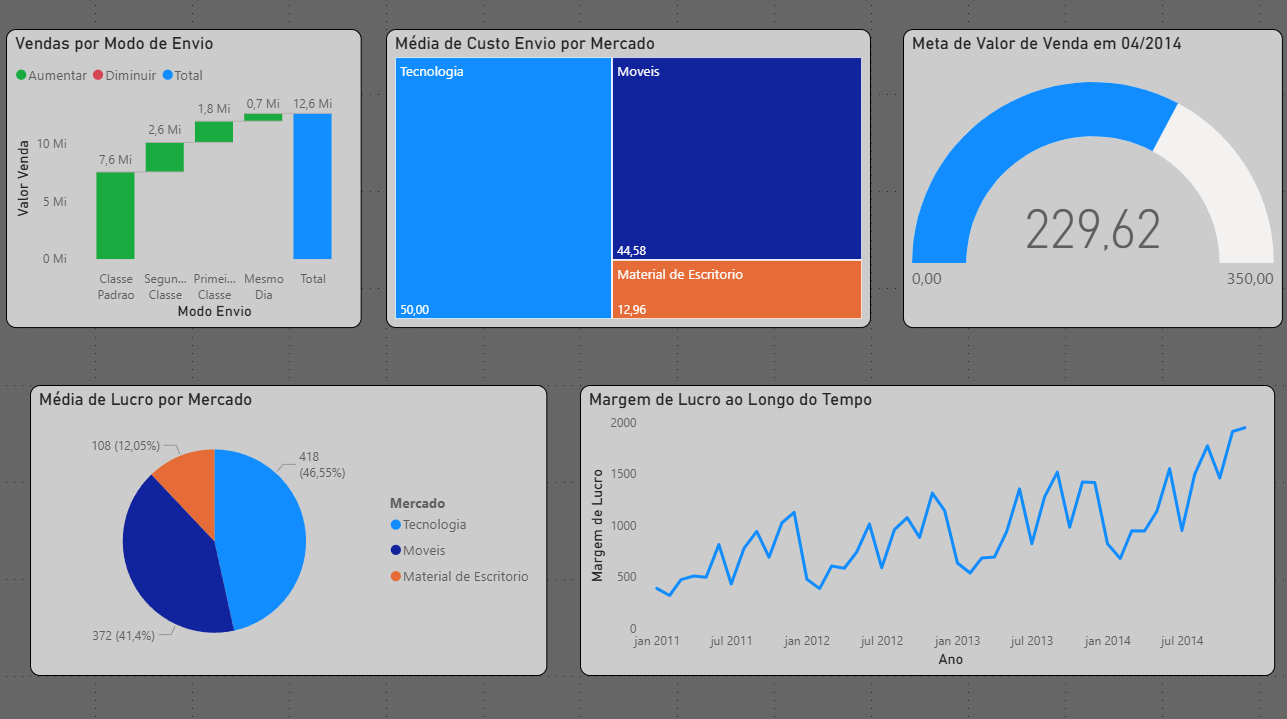

This screenshot's page, from the dashboard's own definition file:
{"tool":"powerbi","page":{"name":"Página 1","canvas":[1280,720],"ordinal":0},"visuals":[{"type":"waterfallChart","title":"Vendas por Modo de Envio ","fields":{"Y":["Sum(Vendas.Valor Venda)"],"Category":["Pedidos.Modo Envio"]},"box":[8,32,352,296],"z":0},{"type":"treemap","title":"Média de Custo Envio por Mercado","fields":{"Values":["Avg(Vendas.Custo Envio)"],"Group":["Produtos.Categoria"]},"box":[384,32,480,296],"z":1000},{"type":"pieChart","fields":{"Category":["Produtos.Categoria"],"Y":["Avg(Vendas.Lucro)"]},"box":[32,384,512,288],"z":2000},{"type":"lineChart","title":"Margem de Lucro ao Longo do Tempo","fields":{"Y":["Sum(Vendas.Margem Lucro)"],"Category":["Pedidos.Data Pedido.Variation.Hierarquia de datas.Ano","Pedidos.Data Pedido.Variation.Hierarquia de datas.Mês"]},"box":[576,384,688,288],"z":3000},{"type":"gauge","fields":{"Y":["Avg(Vendas.Valor Venda)"]},"box":[896,32,376,296],"z":4000}]}

Visuals, with their boxes in screenshot pixels (x1, y1, x2, y2), scaled from the page's 1280x720 canvas onto the 1287x719 screenshot:
"Vendas por Modo de Envio " waterfallChart: x1=8, y1=32, x2=362, y2=328
"Média de Custo Envio por Mercado" treemap: x1=386, y1=32, x2=869, y2=328
pieChart - Produtos.Categoria x Avg(Vendas.Lucro): x1=32, y1=383, x2=547, y2=671
"Margem de Lucro ao Longo do Tempo" lineChart: x1=579, y1=383, x2=1271, y2=671
gauge - Avg(Vendas.Valor Venda): x1=901, y1=32, x2=1279, y2=328
